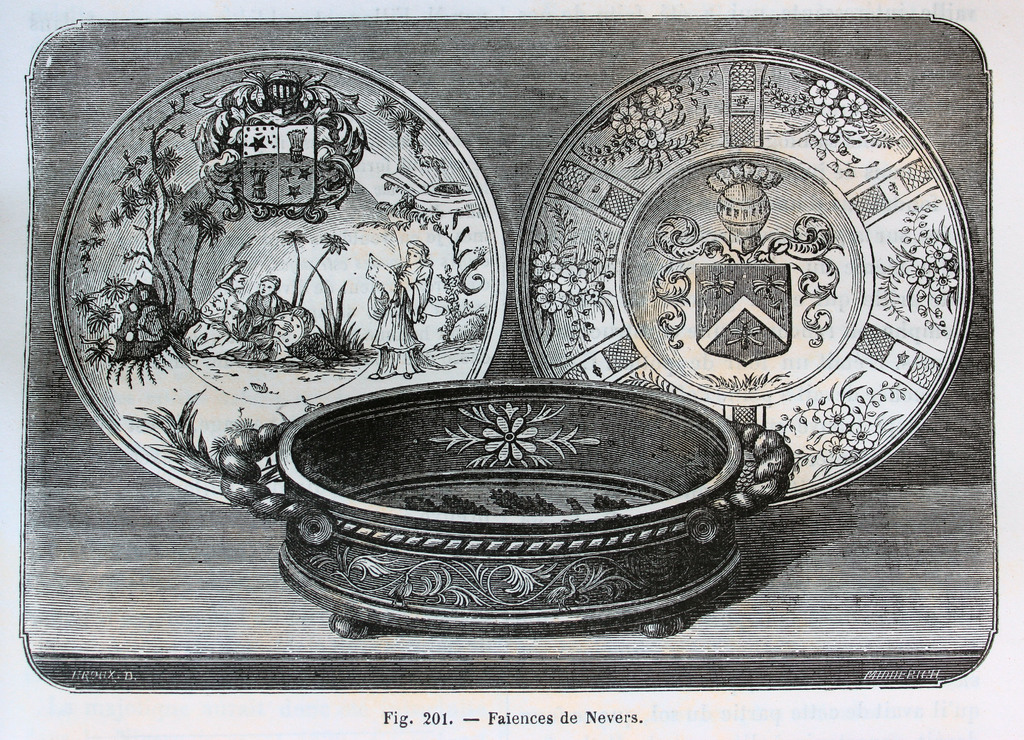plate: (513, 44, 974, 505)
